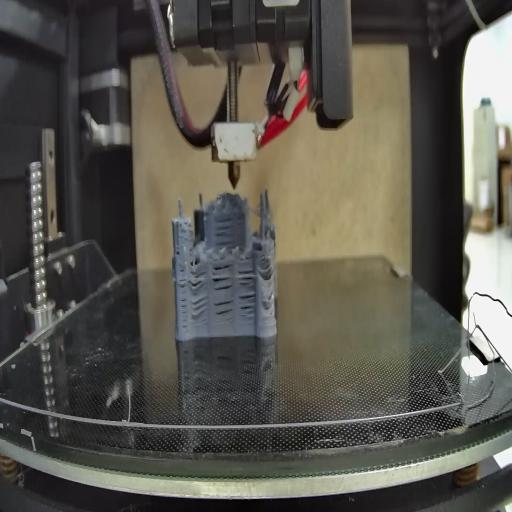cracks: (215, 212, 234, 249), (178, 268, 188, 330), (238, 290, 256, 324), (214, 298, 236, 325), (212, 264, 233, 292), (190, 295, 207, 325), (188, 267, 206, 291), (238, 269, 256, 287), (262, 261, 277, 282), (264, 290, 274, 314), (173, 244, 182, 258)
